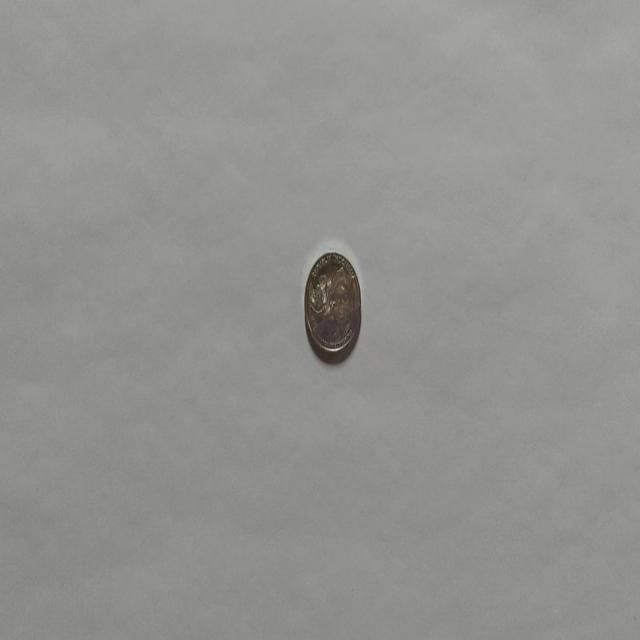dua ratus rupiah: (303, 250, 362, 362)
